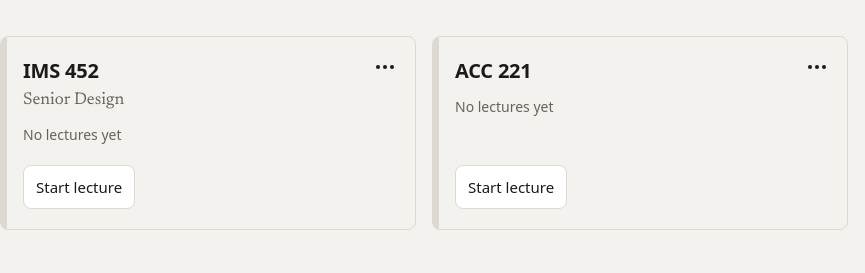
CourseGrid: Archive from a card's ⋯ › a failed archive keeps the card and says so
Step 1. Click the button named "More for IMS 452" → click(385, 67), box [363, 45, 407, 89]
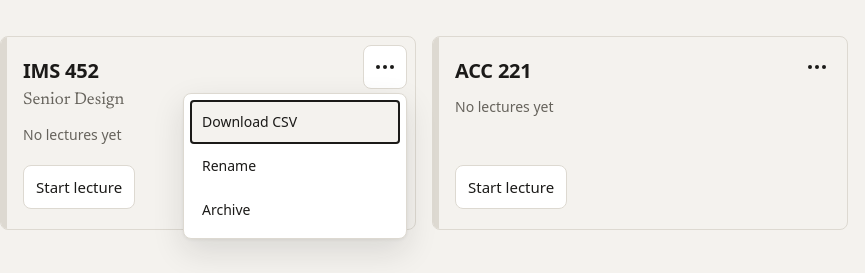
Step 2. Click the menu item "Archive" → click(295, 210), box [190, 188, 400, 232]
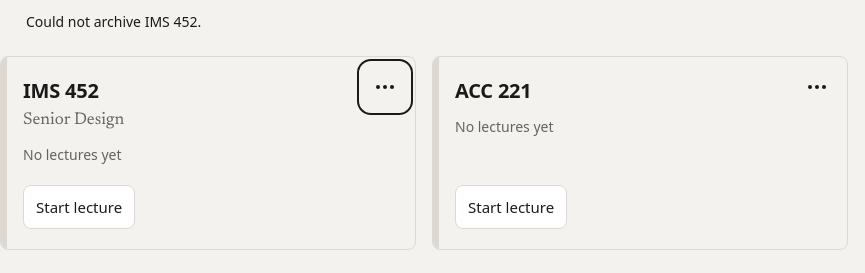
Expected: the message reads "Could not archive IMS 452.", [26, 12, 201, 31]
